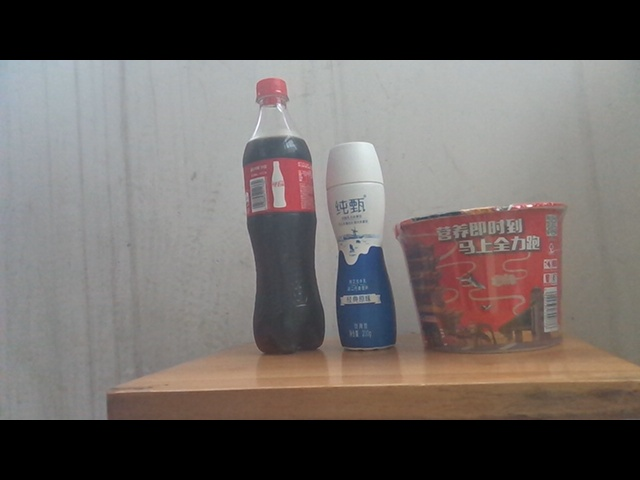cola: (243, 77, 326, 353)
kangshifu: (394, 201, 571, 353)
yogurt: (325, 141, 398, 353)
